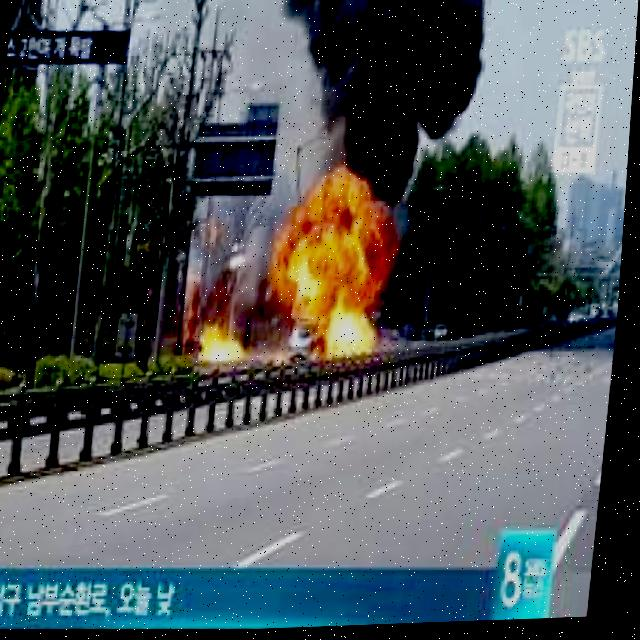Fire: (274, 222, 397, 315), (303, 178, 377, 228), (320, 315, 388, 357), (205, 326, 255, 363)
Smoke: (257, 0, 496, 190)
